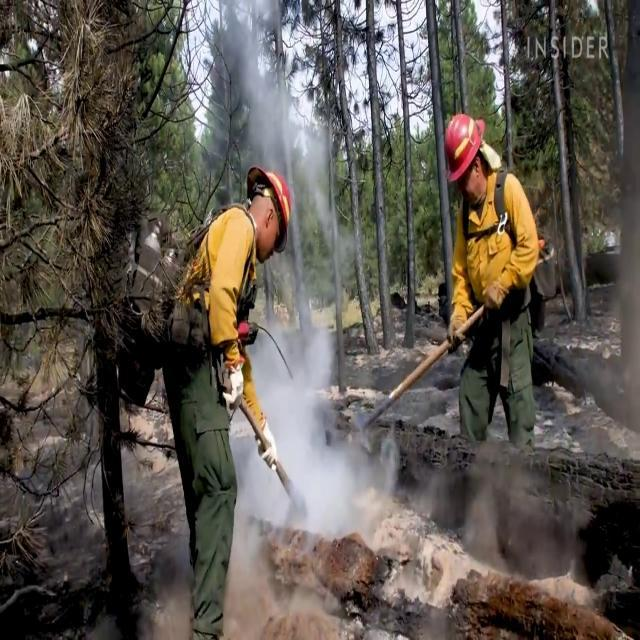Smoke: (244, 27, 370, 563), (595, 3, 640, 504)
